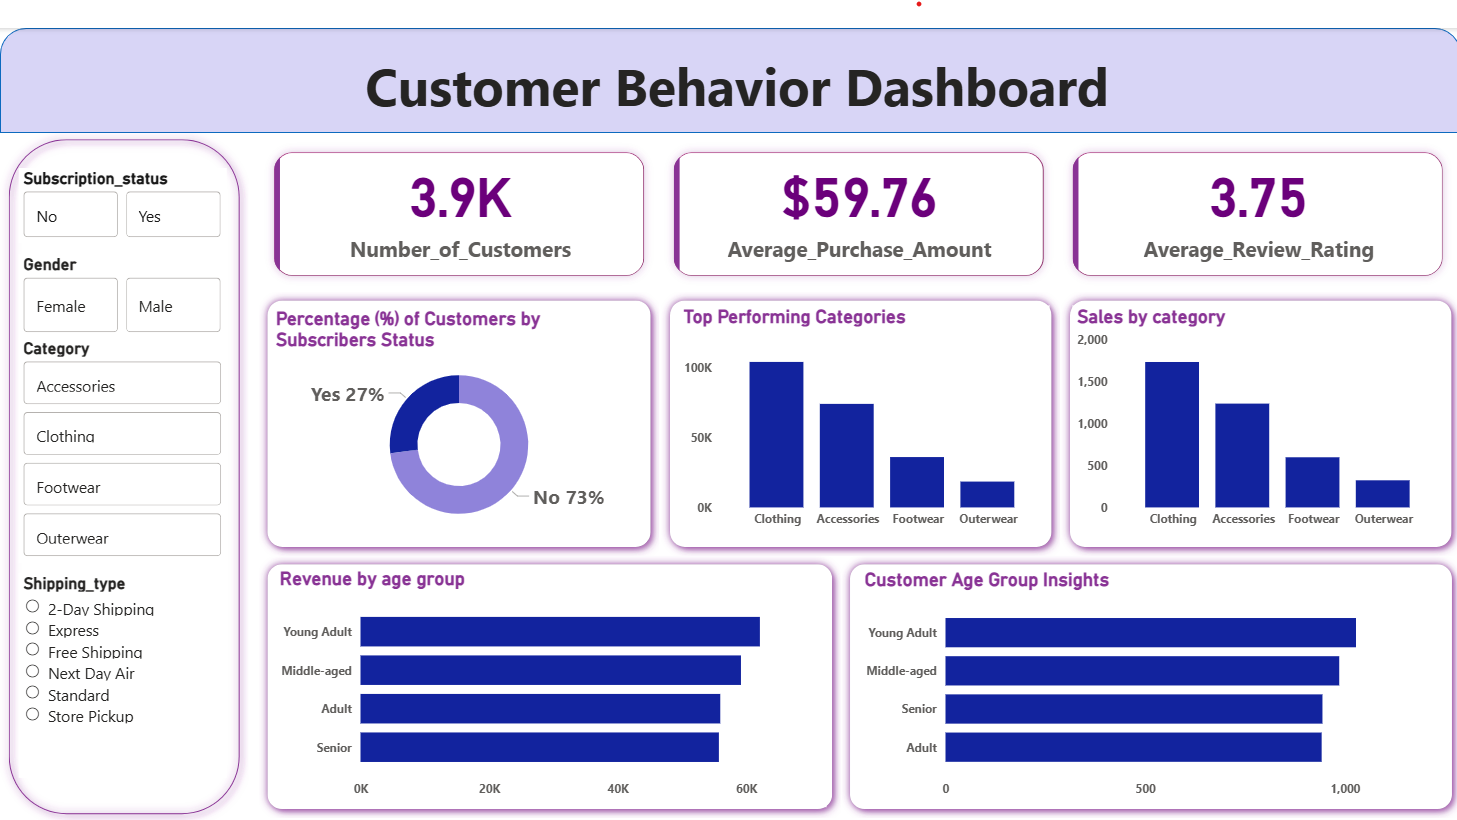

This screenshot's page, from the dashboard's own definition file:
{"tool":"powerbi","page":{"name":"Page 1","canvas":[1500,820],"ordinal":0},"visuals":[{"type":"cardVisual","fields":{"Data":["customer_behaviour customer.Number_of_Customers","customer_behaviour customer.Average_Purchase_Amount","customer_behaviour customer.Average_Review_Rating"]},"box":[266.3,111.6,1234.1,159.4],"z":0},{"type":"shape","box":[0,0,1500.3,107.7],"z":1000},{"type":"shape","box":[266.3,271,411.4,271],"z":2000},{"type":"donutChart","title":"Percentage (%) of Customers by Subscribers Status","fields":{"Category":["customer_behaviour customer.subscription_status"],"Y":["CountNonNull(customer_behaviour customer.customer_id)"]},"box":[279,287,385.8,237.6],"z":3000},{"type":"shape","box":[1090.2,271,409.8,271],"z":4000},{"type":"shape","box":[679.2,271,409.8,271],"z":5000},{"type":"clusteredColumnChart","title":"Top Performing Categories","fields":{"Category":["customer_behaviour customer.category"],"Y":["Sum(customer_behaviour customer.purchase_amount)"]},"box":[696.7,285.4,381.1,237.6],"z":6000},{"type":"clusteredColumnChart","title":"Sales by category","fields":{"Category":["customer_behaviour customer.category"],"Y":["CountNonNull(customer_behaviour customer.customer_id)"]},"box":[1101.7,285.4,382.7,237.6],"z":7000},{"type":"shape","box":[0,105.2,255.1,711.1],"z":8000},{"type":"advancedSlicerVisual","title":"Subscription_status","fields":{"Values":["customer_behaviour customer.subscription_status"]},"box":[19.1,143.5,213.6,76.5],"z":9000},{"type":"advancedSlicerVisual","title":"Gender","fields":{"Values":["customer_behaviour customer.gender"]},"box":[19.1,232.8,213.6,86.1],"z":10000},{"type":"advancedSlicerVisual","title":"Category","fields":{"Values":["customer_behaviour customer.category"]},"box":[19.1,318.9,213.6,231.2],"z":11000},{"type":"listSlicer","title":"Shipping_type","fields":{"Values":["customer_behaviour customer.shipping_type"]},"box":[19.1,559.6,213.6,210.5],"z":12000},{"type":"shape","box":[266.3,542.1,597.9,269.5],"z":13000},{"type":"clusteredBarChart","title":"Revenue by age group","fields":{"Category":["customer_behaviour customer.age_group"],"Y":["Sum(customer_behaviour customer.purchase_amount)"]},"box":[282.2,554.8,566,245.5],"z":14000},{"type":"shape","box":[864.2,542.1,636.2,269.5],"z":15000},{"type":"clusteredBarChart","title":"Customer Age Group Insights","fields":{"Category":["customer_behaviour customer.age_group"],"Y":["CountNonNull(customer_behaviour customer.customer_id)"]},"box":[883.3,556.4,601.1,243.9],"z":16000},{"type":"textbox","box":[100.4,17.5,1313.8,90.9],"z":17000}]}

Visuals, with their boxes in screenshot pixels (x1, y1, x2, y2), scaled from the page's 1500x820 canvas onto the 1457x820 screenshot:
cardVisual - customer_behaviour customer.Number_of_Customers x customer_behaviour customer.Average_Purchase_Amount: 259,112,1456,271
shape: 0,0,1456,108
shape: 259,271,658,542
"Percentage (%) of Customers by Subscribers Status" donutChart: 271,287,646,525
shape: 1059,271,1456,542
shape: 660,271,1058,542
"Top Performing Categories" clusteredColumnChart: 677,285,1047,523
"Sales by category" clusteredColumnChart: 1070,285,1442,523
shape: 0,105,248,816
"Subscription_status" advancedSlicerVisual: 19,144,226,220
"Gender" advancedSlicerVisual: 19,233,226,319
"Category" advancedSlicerVisual: 19,319,226,550
"Shipping_type" listSlicer: 19,560,226,770
shape: 259,542,839,812
"Revenue by age group" clusteredBarChart: 274,555,824,800
shape: 839,542,1456,812
"Customer Age Group Insights" clusteredBarChart: 858,556,1442,800
textbox: 98,18,1374,108
